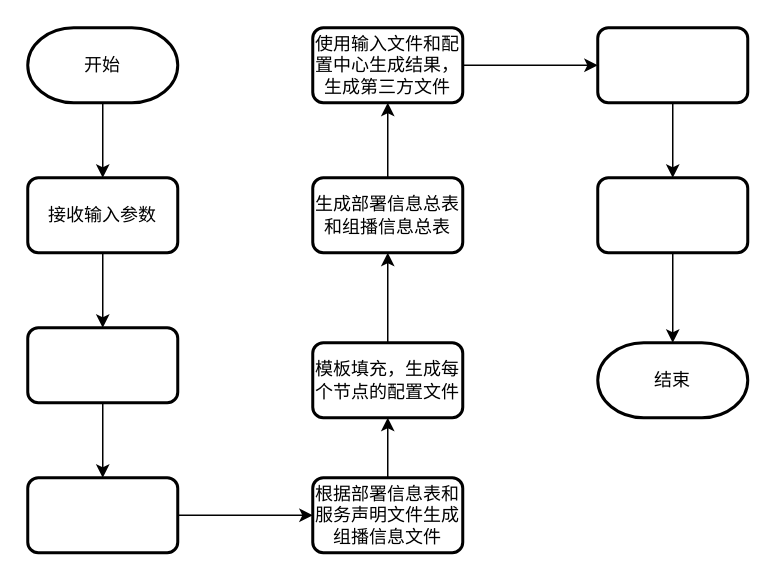
This 774x579 diagram has some shape labels left out. The centre of each missing label's shape, as x and y in pixels:
"打包生成的所有文件" belongs at point 672,65.
"构建部署信息表" belongs at point 102,515.
"根据基础设施信息文件扩展部署信息" belongs at point 102,365.
"返回生成结果" belongs at point 672,215.
